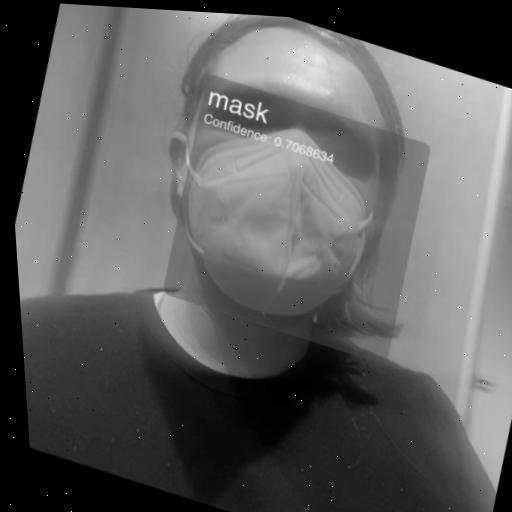mask: (90, 5, 502, 424)
